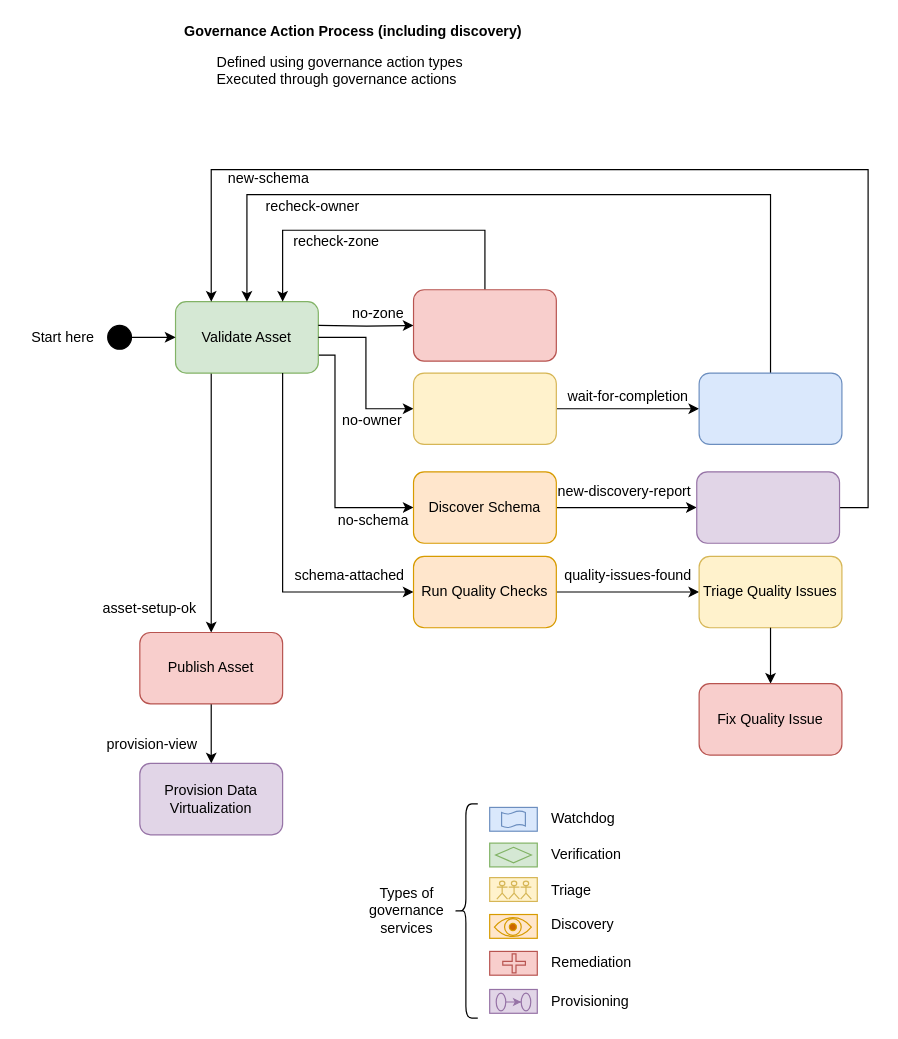
The diagram is 898 pixels wide and 1039 high, and some of its shapes have lost their labels. The shapes that lost their labels are listed below. From the top down, each one's box as (x1, y1, x2, y2) in pixels, then its label:
(412, 289, 556, 361): Add "quarantine" zone
(412, 372, 556, 444): Add ToDo to assign owner
(698, 372, 842, 444): Detect completed ToDo
(696, 471, 840, 543): Add Schema
